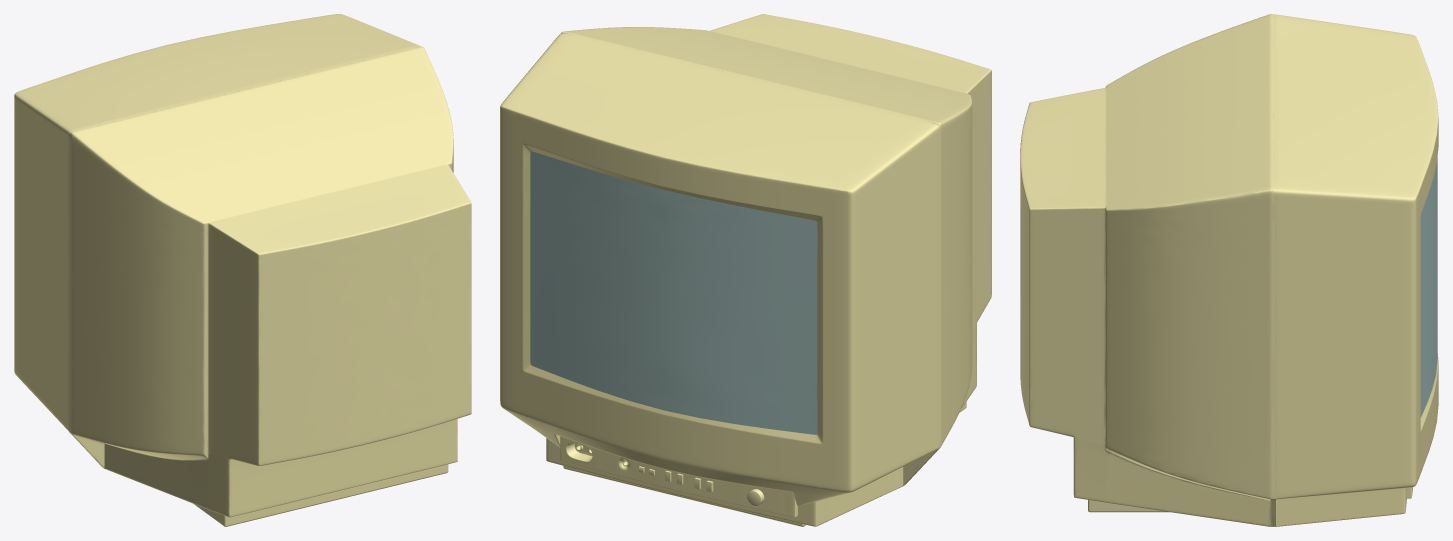
Rendered from TV_Gen_1.fbx.
3 renders of one model, left to right at view 1: azimuth 30°, elevation 25°; view 2: azimuth 150°, elevation 25°; view 3: azimuth 270°, elevation 25°, orthographic. The views are drawn at different scales.
Visible parts, largest first — view 1: mesh_tv_shell; view 2: mesh_tv_shell, mesh_tv_screen; view 3: mesh_tv_shell, mesh_tv_screen.
Boxes of the visible parts, left/top/right/bottom form: mesh_tv_shell: left=14, top=14, right=471, bottom=526; mesh_tv_shell: left=500, top=14, right=991, bottom=526; mesh_tv_screen: left=530, top=151, right=817, bottom=434; mesh_tv_shell: left=1020, top=14, right=1438, bottom=526; mesh_tv_screen: left=1420, top=158, right=1437, bottom=417.
Size of the model in its own units: 75.88 by 71.01 by 75.81.
